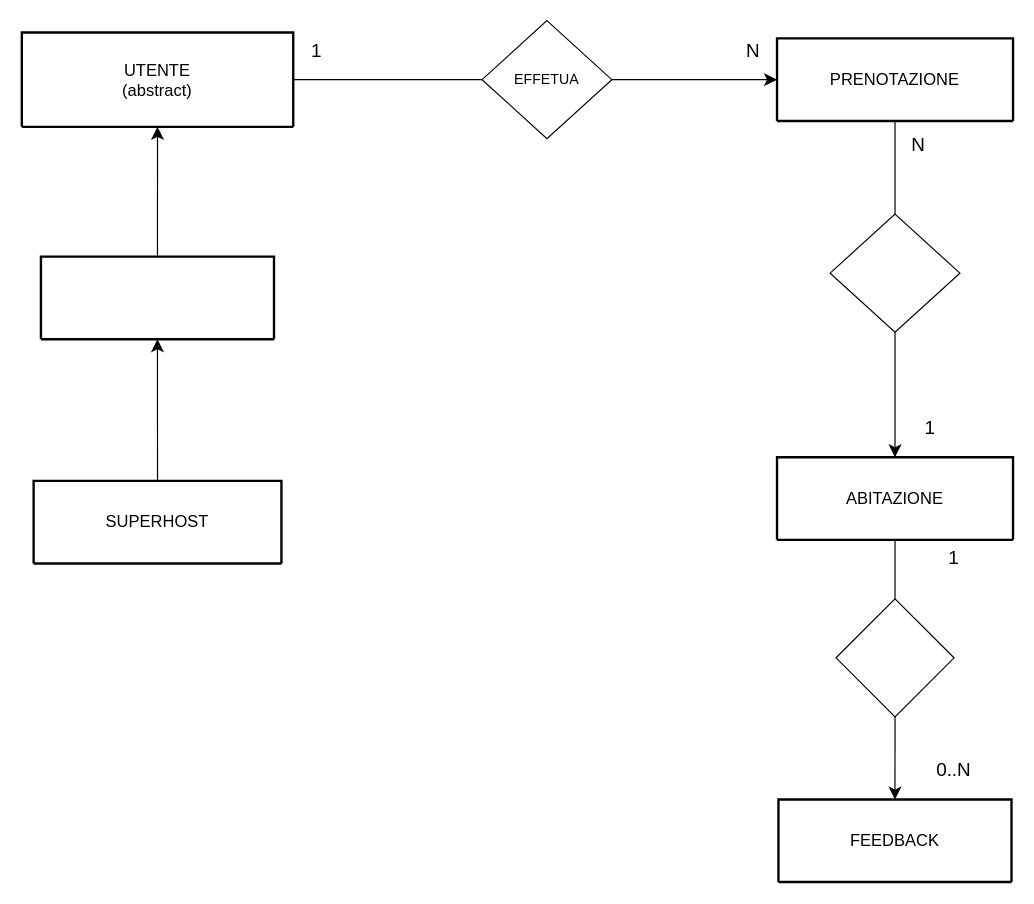
The diagram is 1034 pixels wide and 904 high, and some of its shapes have lost their labels. Each missing label, with the centre of its shape:
"HOST" goes at pixel 157 297.
"POSSIEDE" goes at pixel 894 657.
"RIGUARDO" goes at pixel 894 272.
